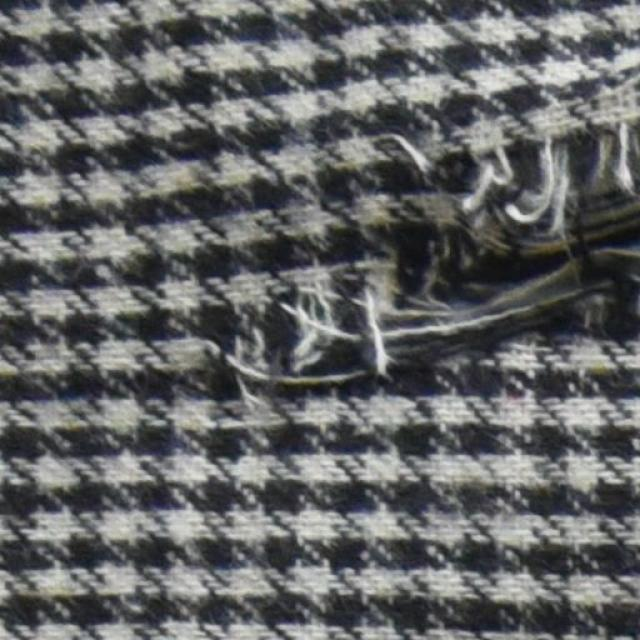Snag: (241, 86, 639, 414)
